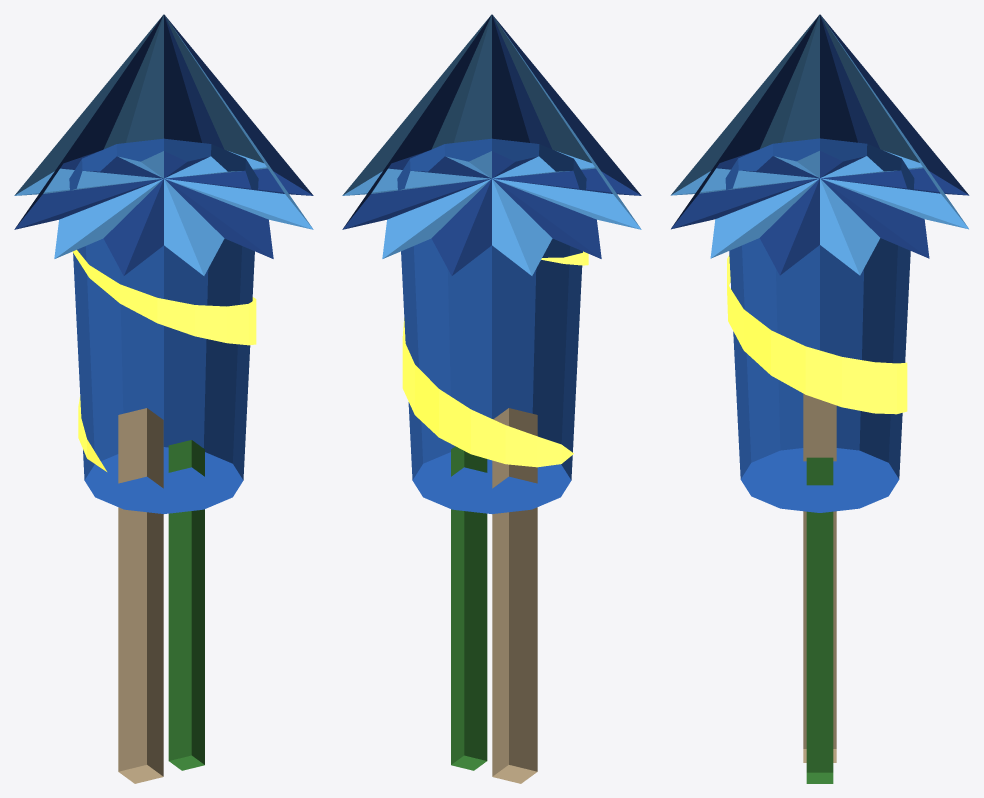
The model's file is rocket_blue.glb.
The picture shows the model from 3 angles, left to right: view 1: azimuth 30°, elevation 25°; view 2: azimuth 150°, elevation 25°; view 3: azimuth 270°, elevation 25°; orthographic projection.
Parts seen in each view (by area): view 1: body, fan_a, fan_b, stick, fuse, emblem; view 2: body, fan_a, fan_b, stick, fuse, emblem; view 3: body, fan_a, fan_b, emblem, fuse, stick.
Part boxes in pixels (x1=…): body: x1=69, y1=138, x2=258, y2=513; fan_a: x1=14, y1=14, x2=313, y2=275; fan_b: x1=14, y1=14, x2=313, y2=275; stick: x1=118, y1=408, x2=163, y2=783; fuse: x1=168, y1=440, x2=204, y2=770; emblem: x1=72, y1=250, x2=256, y2=471; body: x1=397, y1=138, x2=586, y2=513; fan_a: x1=342, y1=14, x2=641, y2=275; fan_b: x1=342, y1=14, x2=641, y2=275; stick: x1=492, y1=408, x2=537, y2=783; fuse: x1=451, y1=446, x2=487, y2=770; emblem: x1=402, y1=251, x2=588, y2=467; body: x1=725, y1=138, x2=914, y2=512; fan_a: x1=671, y1=14, x2=969, y2=275; fan_b: x1=670, y1=14, x2=968, y2=275; emblem: x1=727, y1=255, x2=907, y2=414; fuse: x1=806, y1=457, x2=833, y2=783; stick: x1=803, y1=393, x2=836, y2=762.
Bounding box in the file's own units: 0.396 × 1.1 × 0.396.
